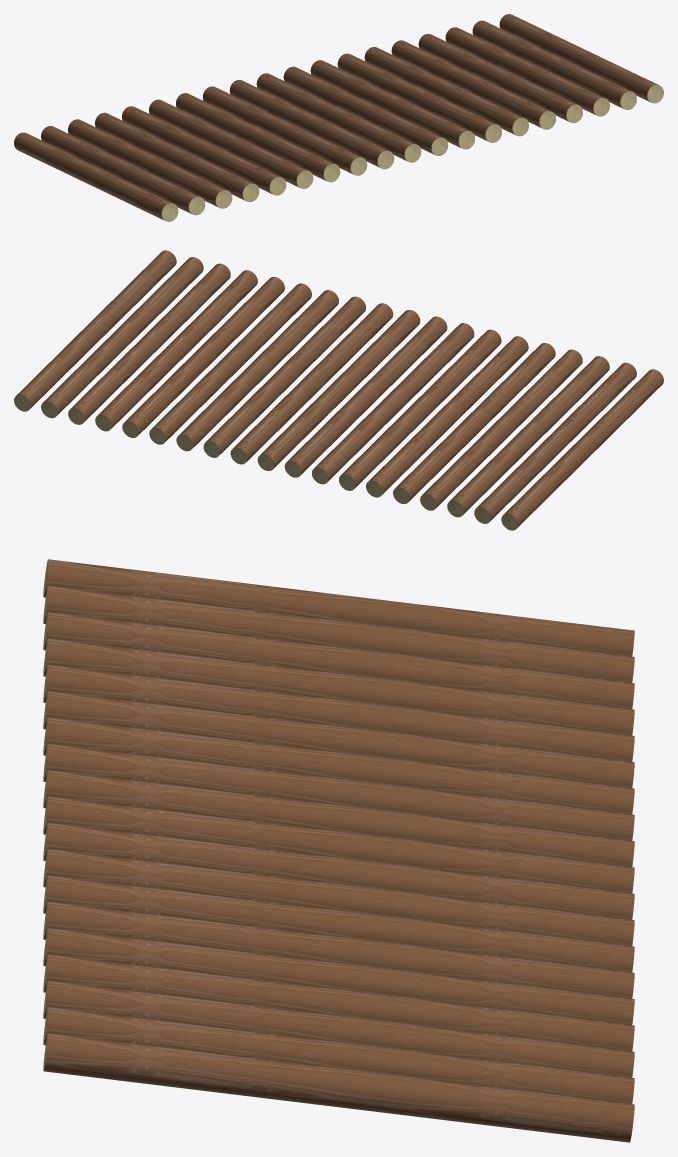
Rendered from kirisRoof.fbx.
The picture shows the model from 3 angles, top to bottom: view 1: azimuth 30°, elevation 25°; view 2: azimuth 150°, elevation 25°; view 3: azimuth 270°, elevation 25°; orthographic projection. The views are drawn at different scales.
Visible parts, largest first — view 1: S_kiris.001; view 2: S_kiris.001; view 3: S_kiris.001.
Part boxes in pixels (x1,y1,x2,y2): S_kiris.001: (14, 14, 663, 221); S_kiris.001: (14, 250, 663, 530); S_kiris.001: (43, 559, 634, 1142).
Bounding box in the file's own units: 648 × 65.82 × 329.
Materials: 1 (1 with a texture image).
